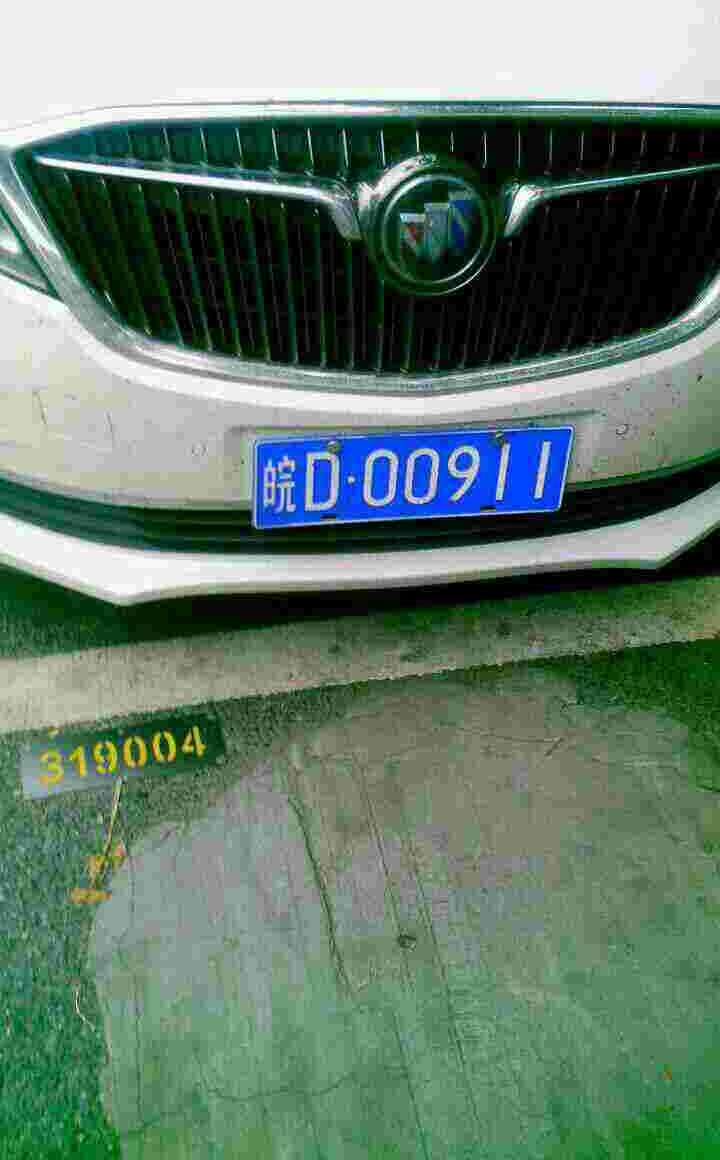license_plate: (245, 421, 575, 533)
